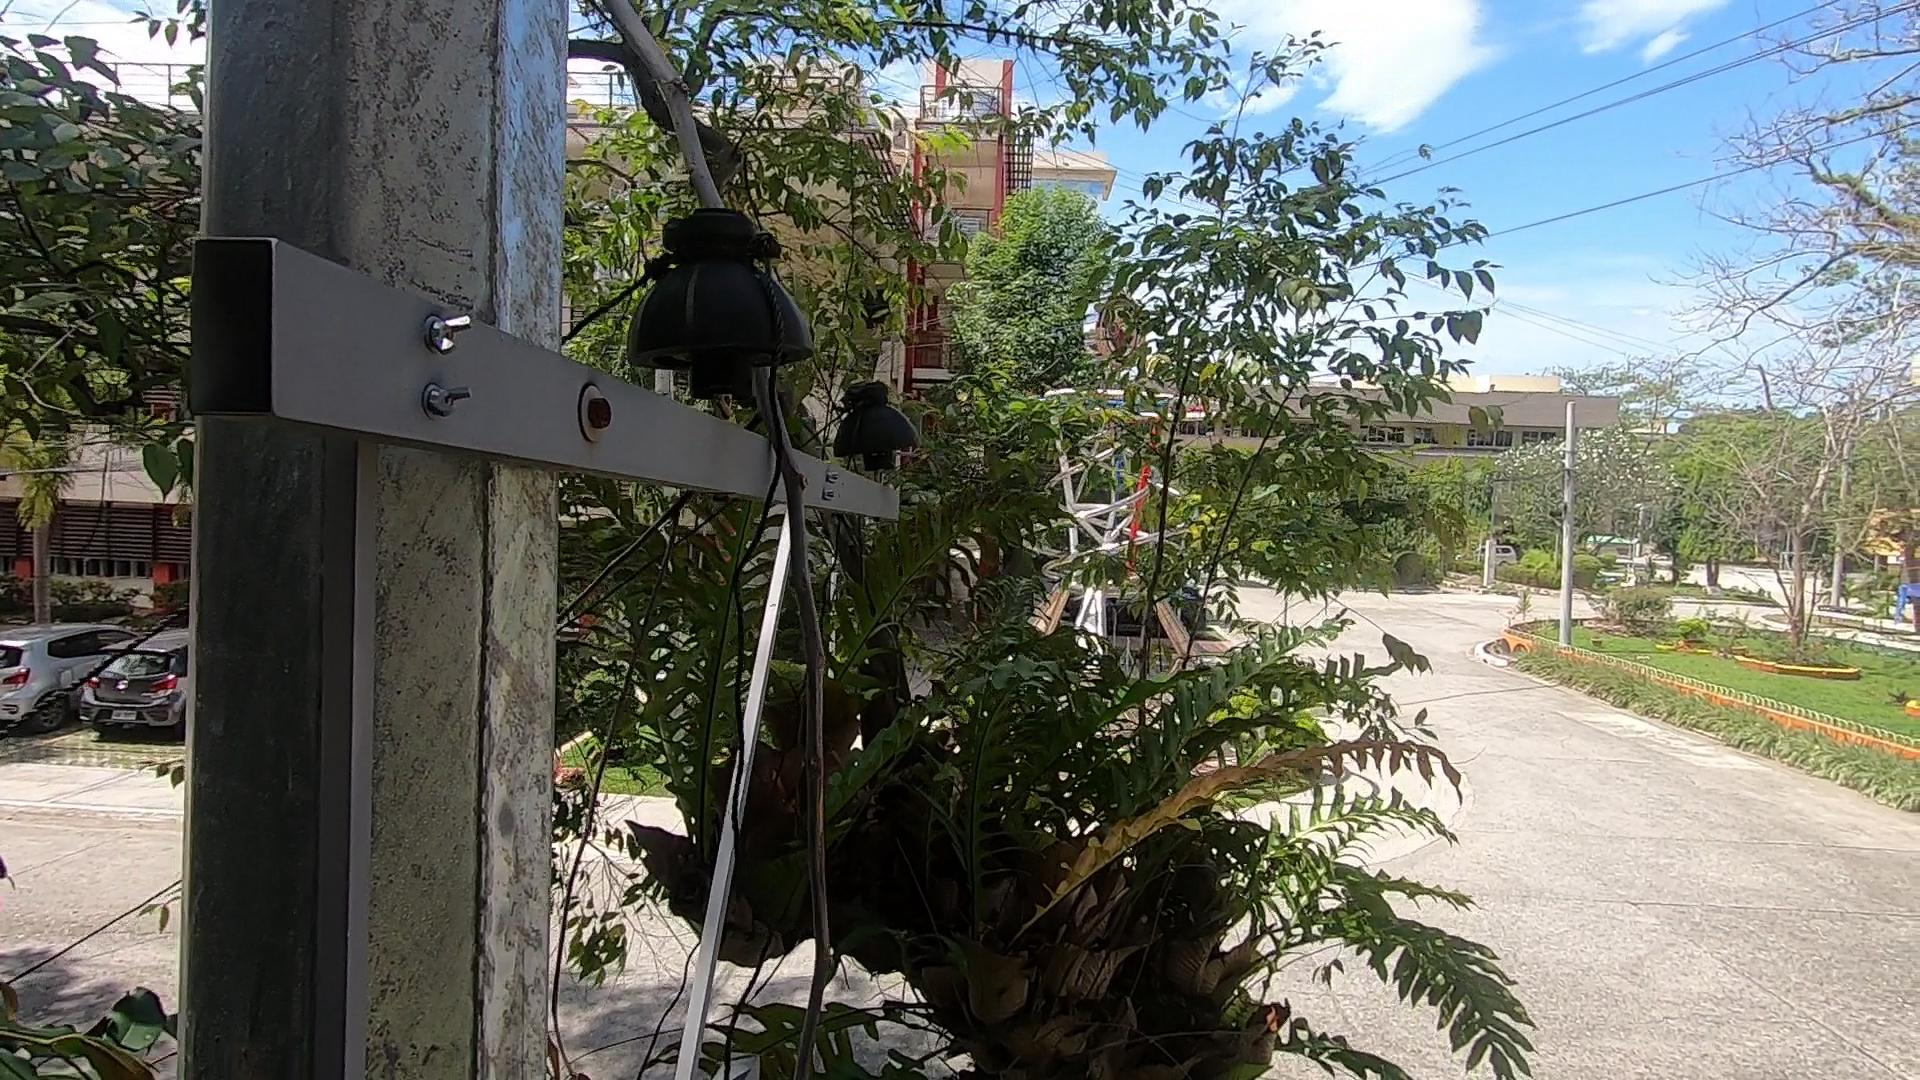tree branch: (560, 5, 971, 1068)
